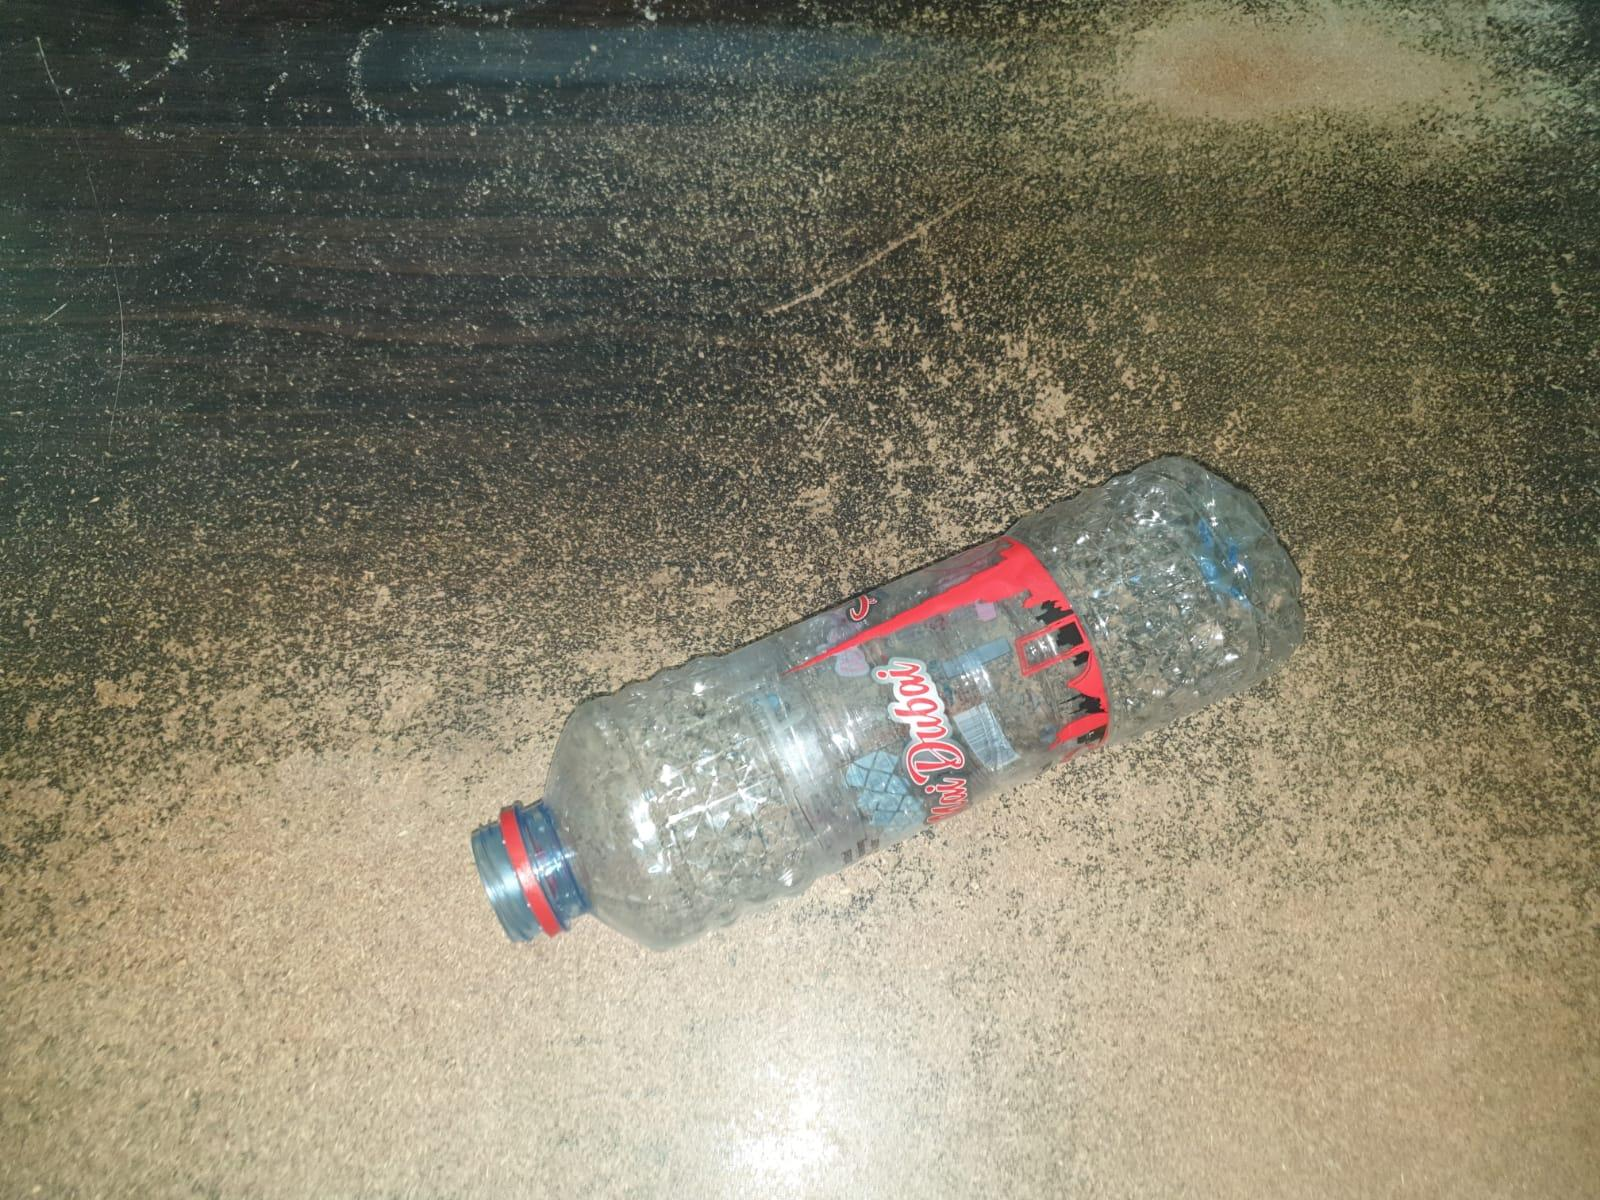bottle: (461, 451, 1311, 992)
